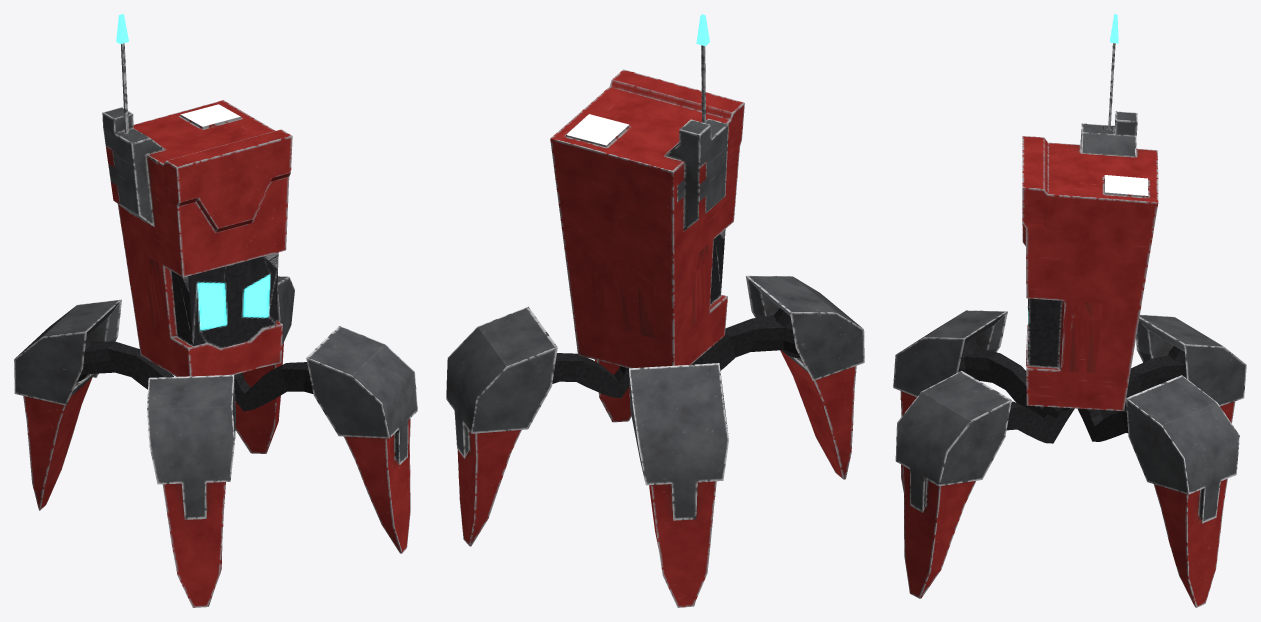
File: RoboticSpidy_Game.fbx
3 renders of one model, left to right at view 1: azimuth 30°, elevation 25°; view 2: azimuth 150°, elevation 25°; view 3: azimuth 270°, elevation 25°, orthographic. The views are drawn at different scales.
Visible parts, largest first — view 1: RoboticSpidy_Game; view 2: RoboticSpidy_Game; view 3: RoboticSpidy_Game.
Boxes of the visible parts, x1=… form: RoboticSpidy_Game: x1=14, y1=14, x2=417, y2=607; RoboticSpidy_Game: x1=446, y1=14, x2=864, y2=607; RoboticSpidy_Game: x1=893, y1=14, x2=1246, y2=607.
Size of the model in its own units: 0.2482 by 0.45 by 0.2826.
1 material, 1 textured.
